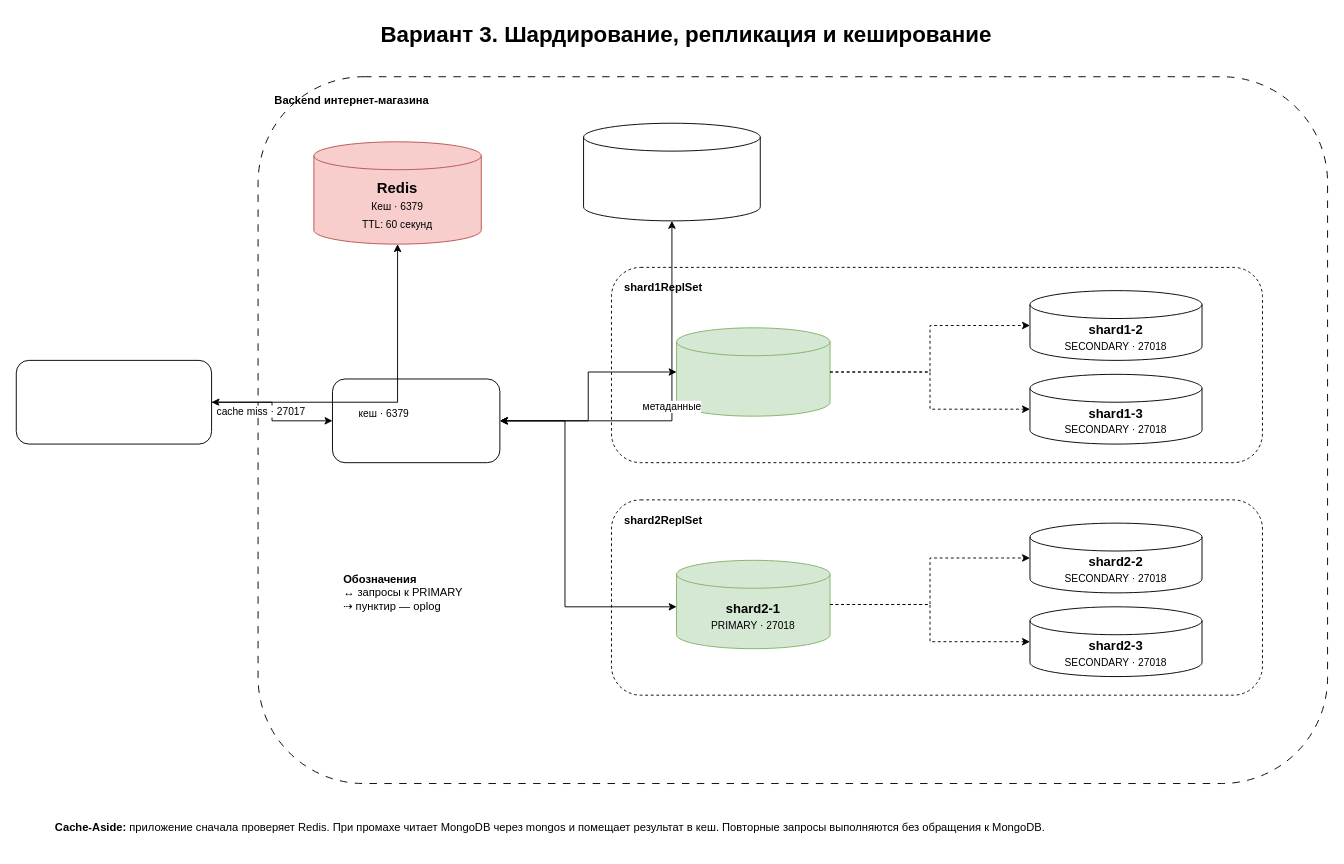
This 1344x864 diagram has some shape labels left out. Here are the shapes that lost their labels. From the top down, the centre of each, then its label:
the point at 671,171: configSrv configReplSet (1 узел) 27019
the point at 753,371: shard1-1 PRIMARY · 27018
the point at 113,401: pymongo-api Cache-Aside клиент
the point at 416,420: mongos Маршрутизатор · 27017
